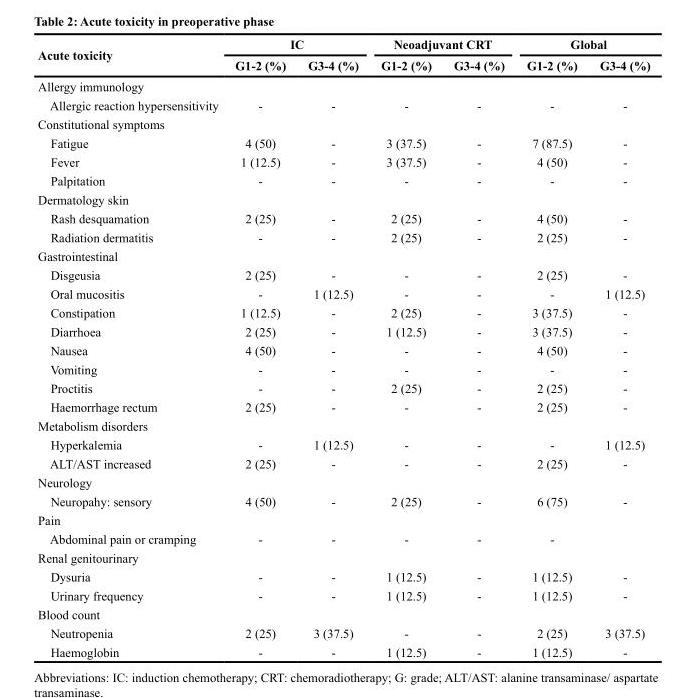table: (37, 36, 649, 658)
table column: (37, 36, 226, 658), (296, 36, 369, 658), (369, 36, 442, 658), (514, 36, 587, 658), (442, 36, 514, 658), (226, 36, 296, 658), (587, 36, 649, 658)
table column header: (37, 36, 649, 75)
table projected row header: (37, 75, 649, 95), (37, 114, 649, 133), (37, 189, 649, 208), (37, 246, 649, 265), (37, 472, 649, 491), (37, 510, 649, 529), (37, 604, 649, 623), (37, 416, 649, 434), (37, 548, 649, 566)
table row: (37, 54, 649, 75), (37, 75, 649, 95), (37, 95, 649, 114), (37, 114, 649, 133), (37, 133, 649, 152), (37, 170, 649, 189), (37, 189, 649, 208), (37, 208, 649, 227), (37, 227, 649, 246), (37, 246, 649, 265), (37, 265, 649, 284), (37, 302, 649, 321), (37, 321, 649, 340), (37, 340, 649, 359), (37, 359, 649, 378), (37, 378, 649, 397), (37, 397, 649, 416), (37, 434, 649, 453), (37, 453, 649, 472), (37, 472, 649, 491), (37, 491, 649, 510), (37, 510, 649, 529), (37, 529, 649, 548), (37, 566, 649, 585), (37, 585, 649, 604), (37, 604, 649, 623), (37, 623, 649, 642), (37, 36, 649, 54), (37, 152, 649, 170), (37, 284, 649, 302), (37, 416, 649, 434), (37, 548, 649, 566), (37, 642, 649, 658)
table spanning cell: (37, 36, 226, 75), (369, 36, 514, 54), (226, 36, 369, 54), (514, 36, 649, 54)
